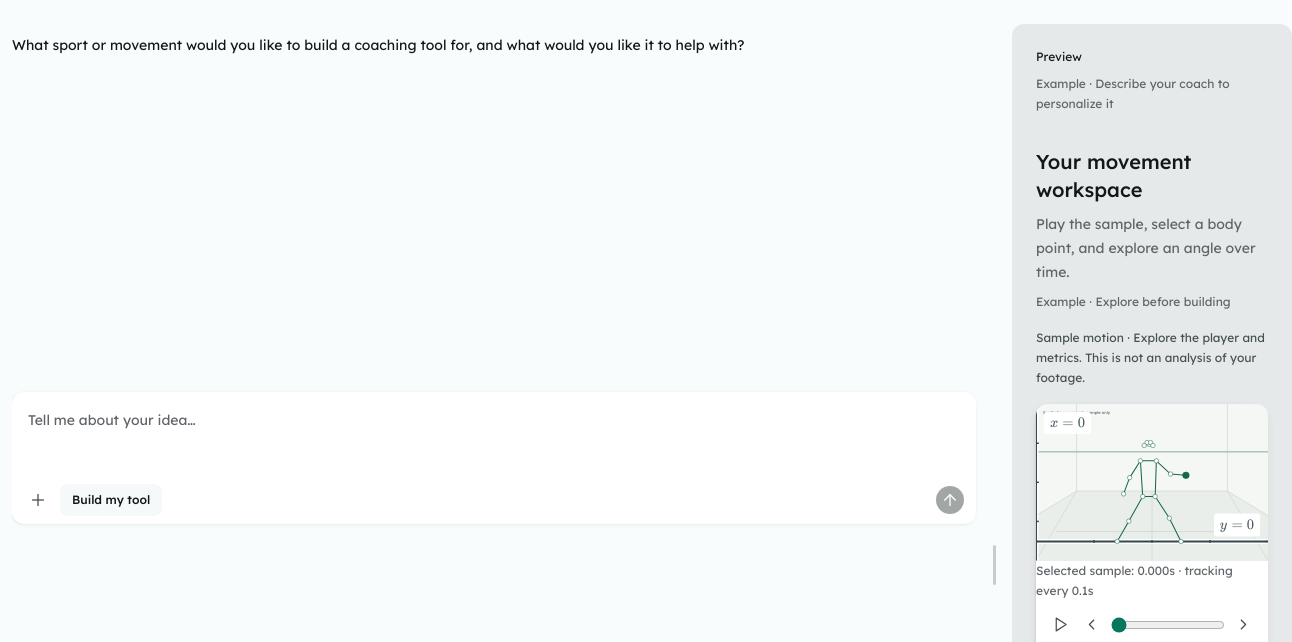
Scenario: preserves an unsent follow-up when retrying an earlier failed request
Step 1. Type "Build a coach" into the text box named "Answer the builder" → coordinates (494, 440), box [24,408,964,472]
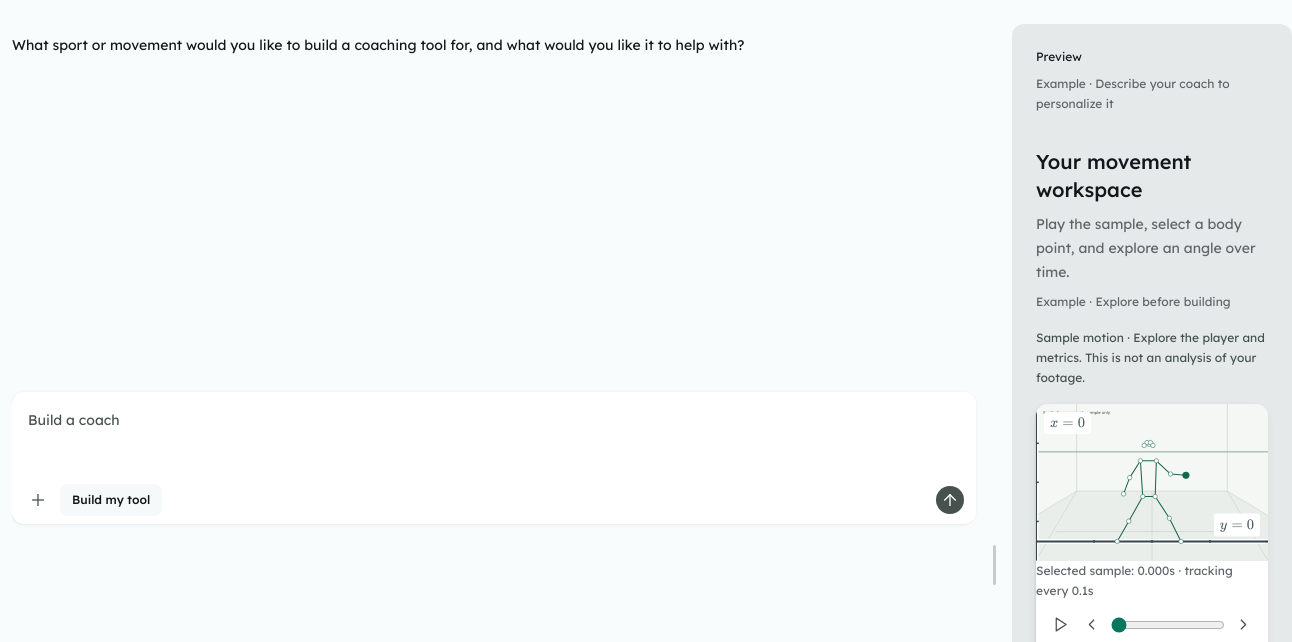
Step 2. Click the button named "Send answer" → coordinates (950, 500), box [936,486,964,514]
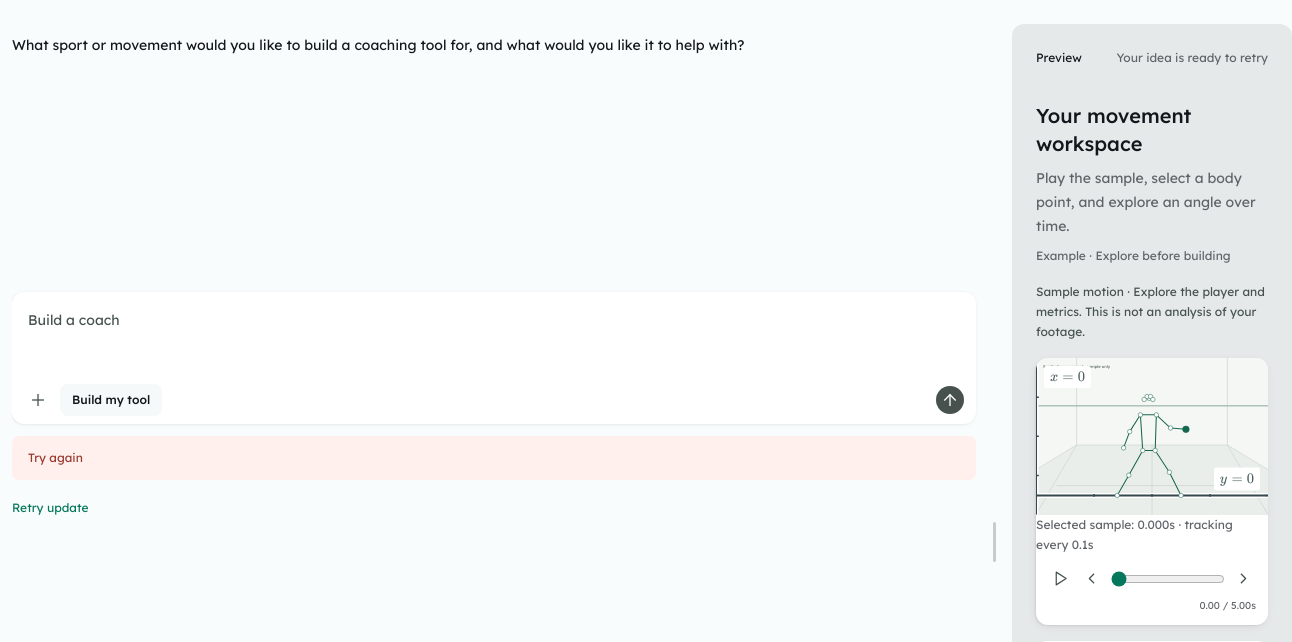
Now the text "Try again" is shown, box [28,448,83,468]
Step 3. Replace the text in the text box named "Answer the builder" with "Also use a side camera" → coordinates (494, 340), box [24,308,964,372]
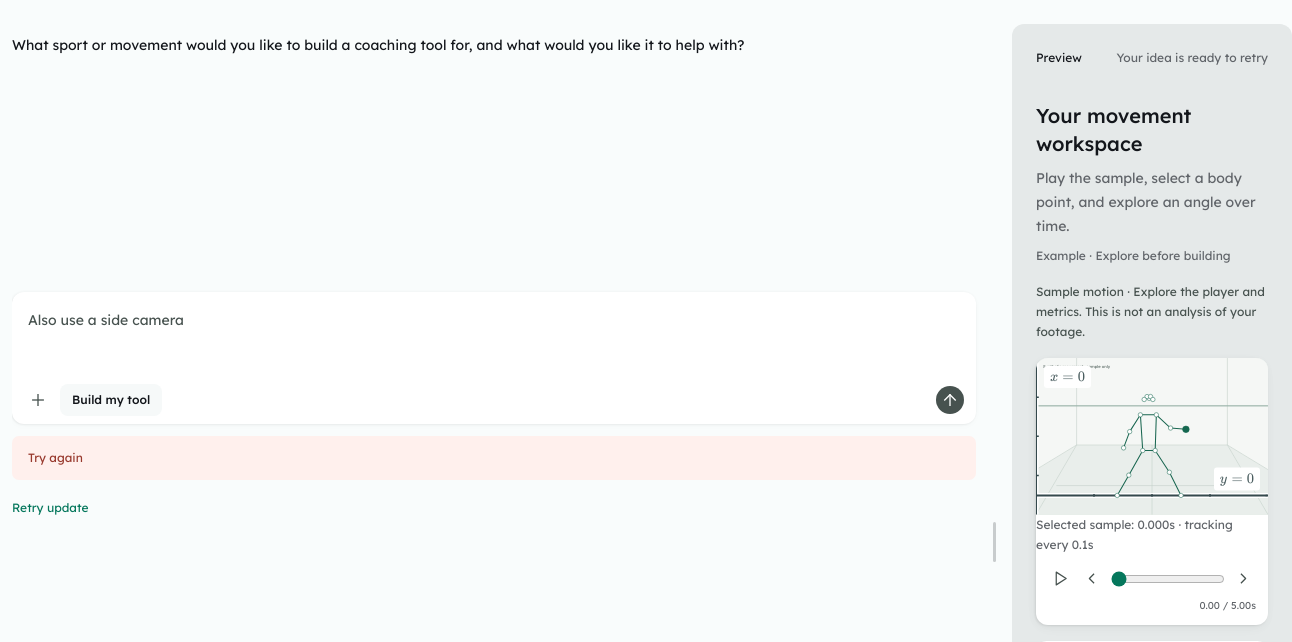
Step 4. Click the button "Retry update" → coordinates (50, 508), box [12,492,976,524]
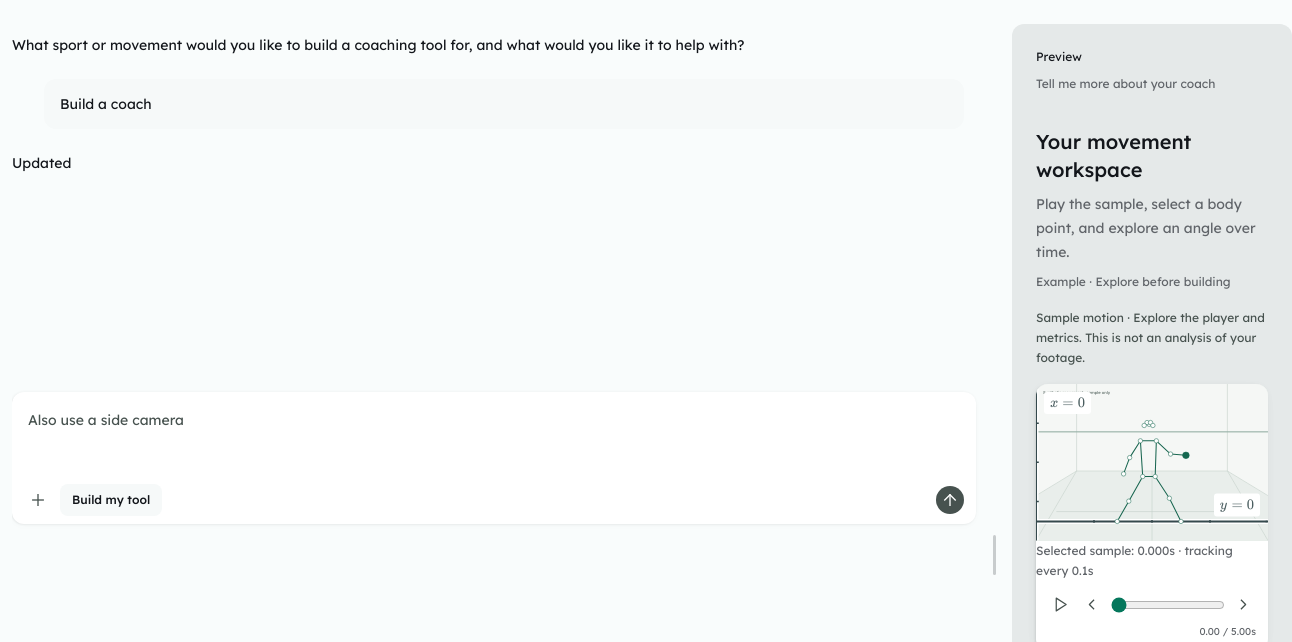
Now the text "Updated" is shown, box [12,154,71,172]
